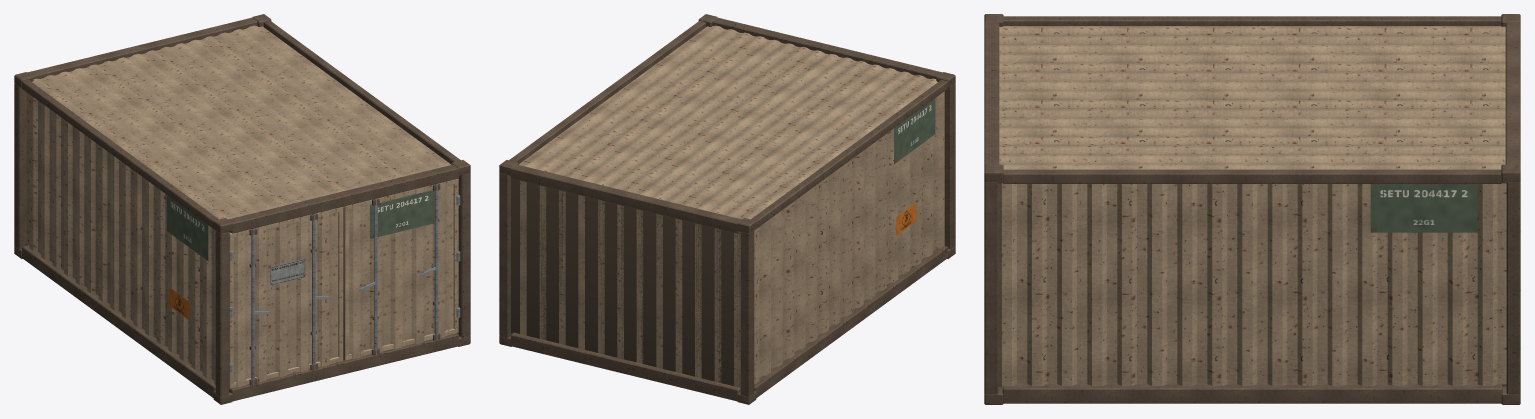
The model's file is cargo_container_intact_sand.gltf.
3 renders of one model, left to right at view 1: azimuth 30°, elevation 25°; view 2: azimuth 150°, elevation 25°; view 3: azimuth 270°, elevation 25°, orthographic. The views are drawn at different scales.
Visible parts, largest first — view 1: Container_Intact_Body; view 2: Container_Intact_Body; view 3: Container_Intact_Body.
Boxes of the visible parts, x1,y1,x2,y2 form: Container_Intact_Body: (14,14,470,404); Container_Intact_Body: (499,14,955,404); Container_Intact_Body: (984,14,1520,404).
Bounding box in the file's own units: 3.5 × 2.4 × 5.
4 materials, 4 textured.
